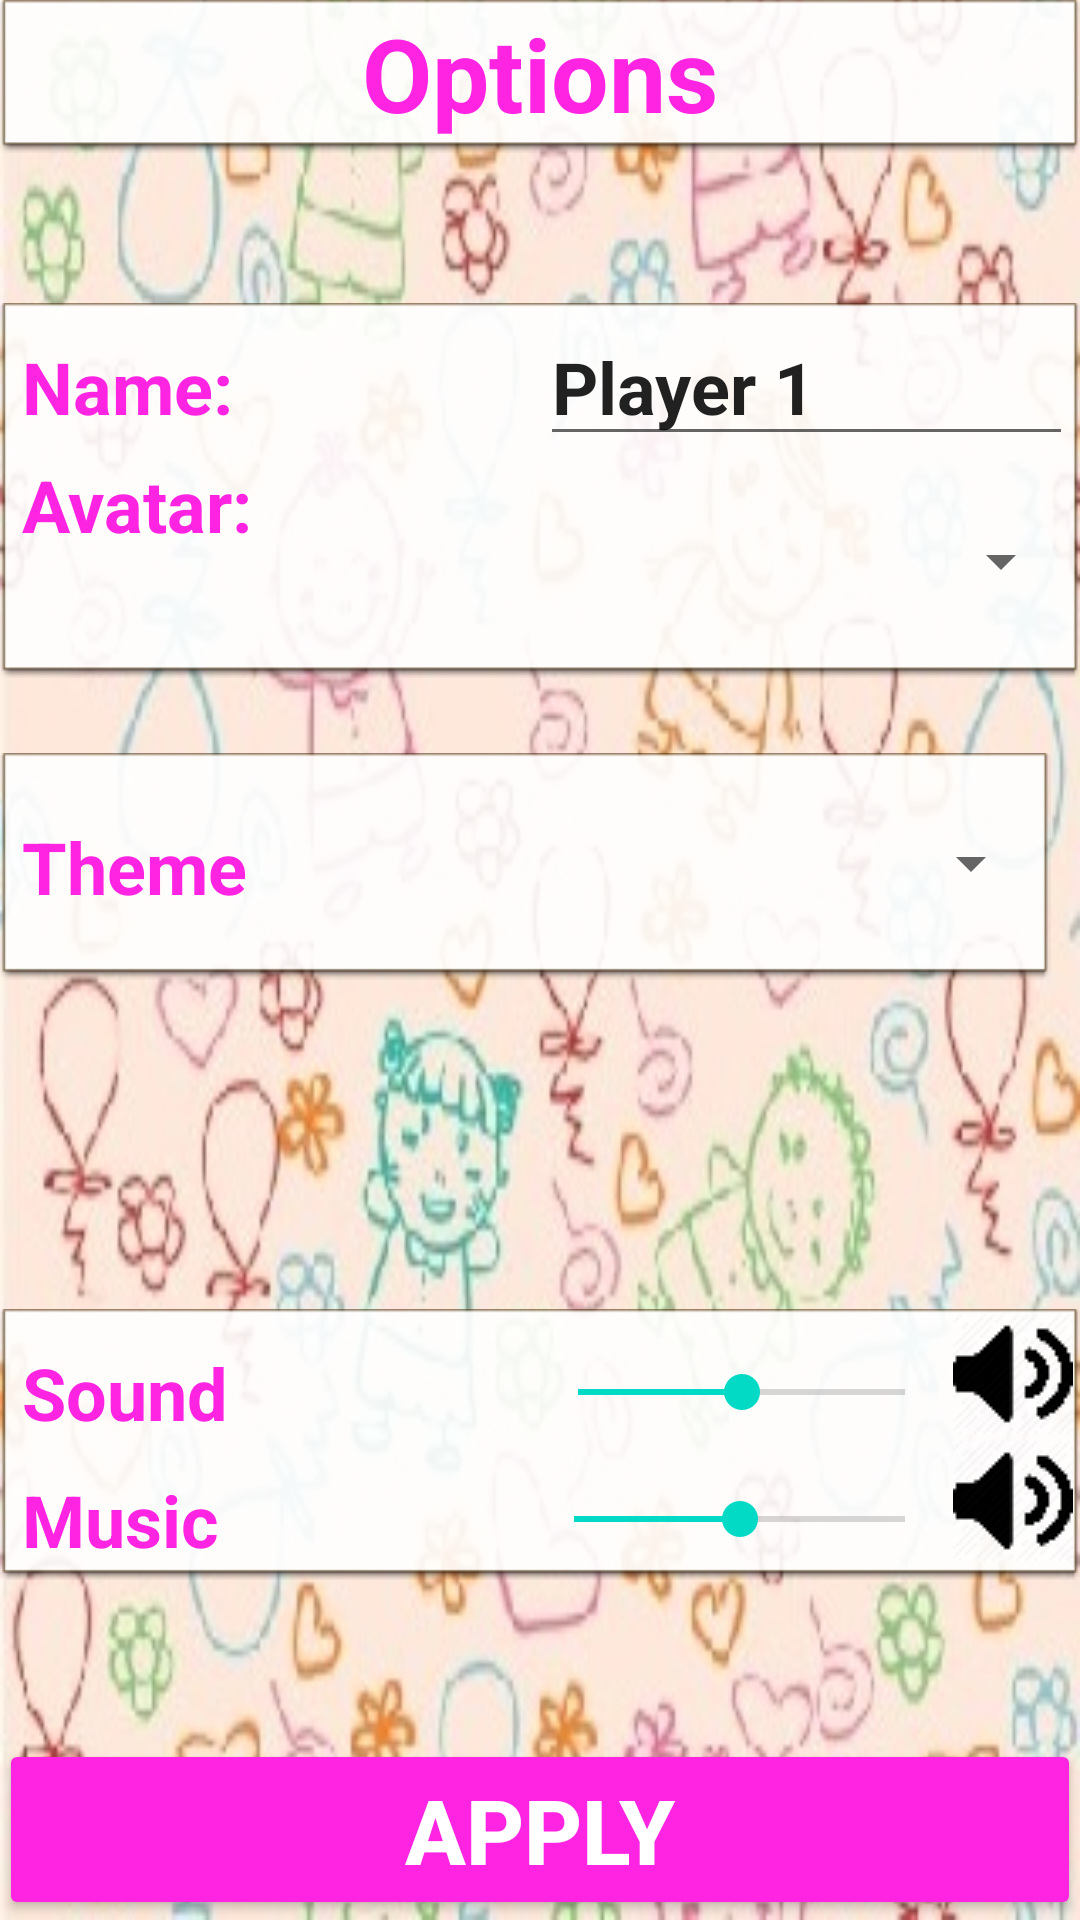

Named icons in this screenshot (1080×1920) and their centers, [x,y]:
sound on: [1013,1374], [1013,1501]
